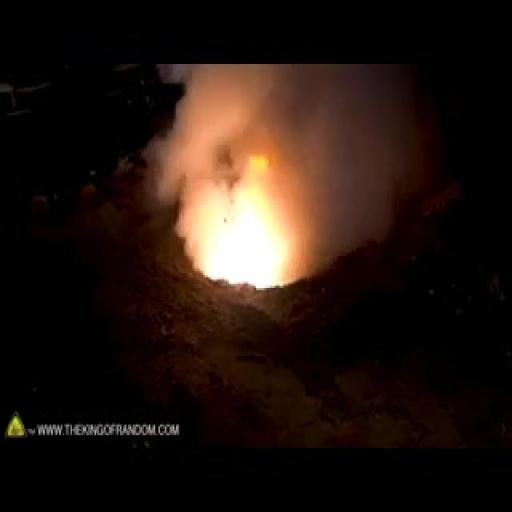smoke: (174, 169, 294, 302)
